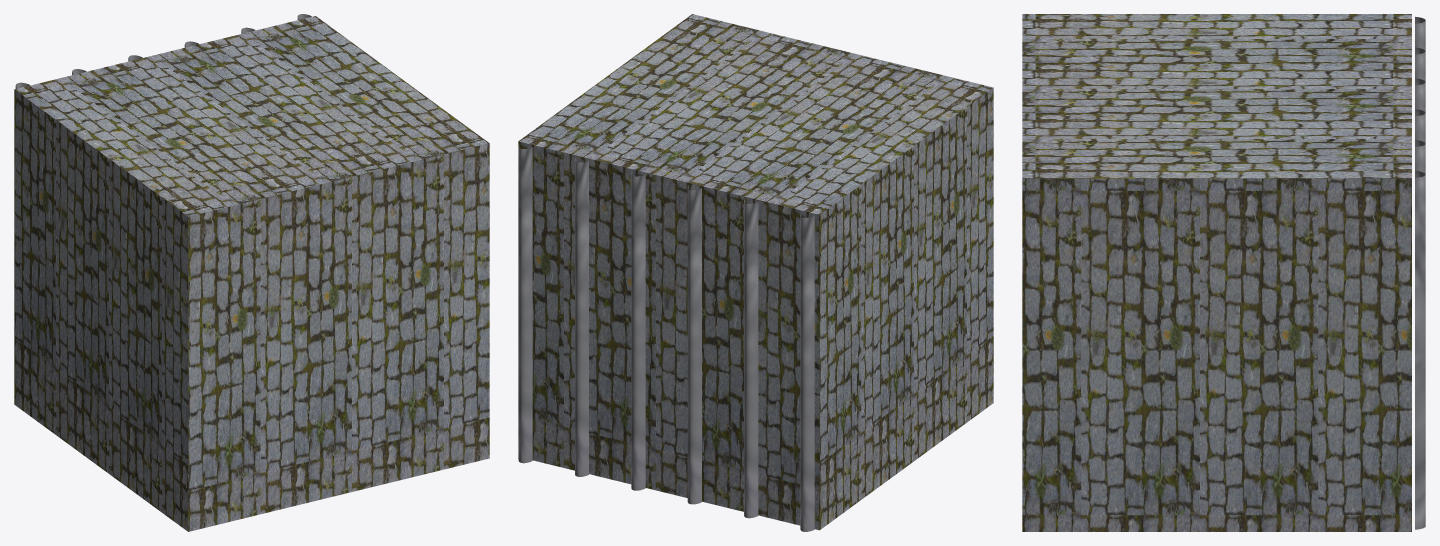
The model's file is Jail.fbx.
3 views of the same model, side by side, from view 1: azimuth 30°, elevation 25°; view 2: azimuth 150°, elevation 25°; view 3: azimuth 270°, elevation 25° (orthographic). The views are drawn at different scales.
Parts seen in each view (by area): view 1: Cube, Cube.002; view 2: Cube, Cube.002, Cylinder; view 3: Cube, Cube.002, Cylinder.
Part boxes in pixels (bbox=[...]): Cube: bbox=[14, 89, 489, 531]; Cube.002: bbox=[15, 16, 489, 216]; Cube: bbox=[518, 88, 993, 530]; Cube.002: bbox=[518, 14, 993, 214]; Cylinder: bbox=[518, 144, 814, 531]; Cube: bbox=[1022, 178, 1411, 531]; Cube.002: bbox=[1022, 14, 1411, 178]; Cylinder: bbox=[1415, 16, 1425, 529].
Size of the model in its own units: 400 by 400 by 414.
2 materials, 2 textured.
